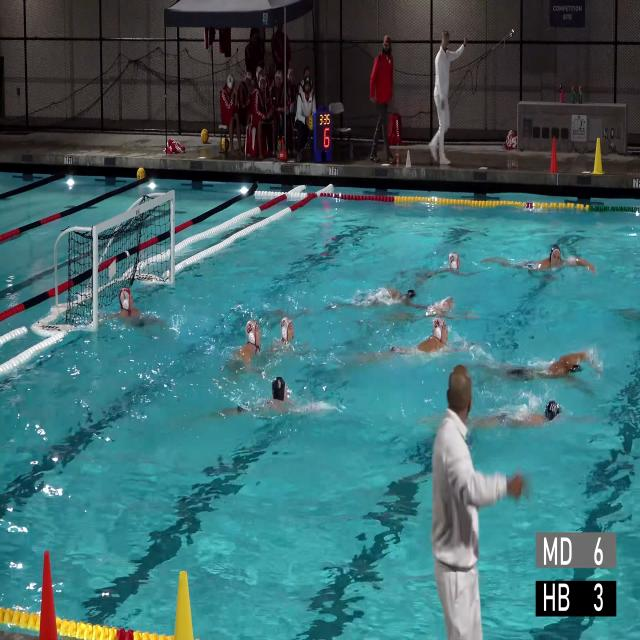ball: (136, 168, 146, 180), (201, 129, 209, 143), (222, 138, 229, 152), (308, 114, 314, 130)
